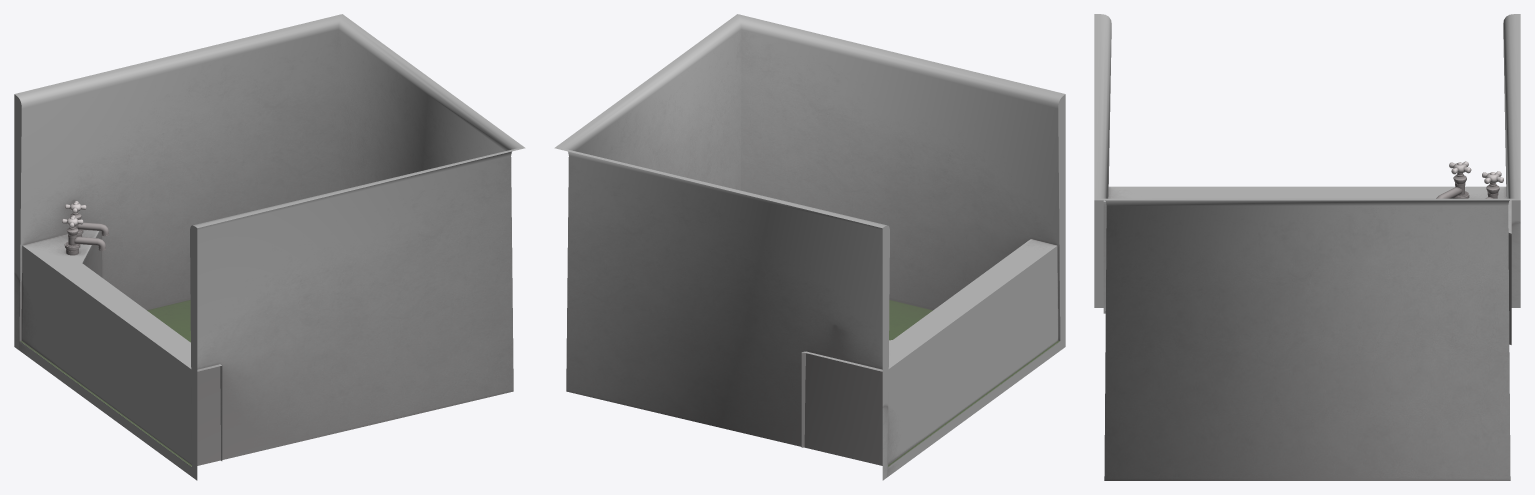
Rendered from SM_Bathtub.fbx.
3 renders of one model, left to right at view 1: azimuth 30°, elevation 25°; view 2: azimuth 150°, elevation 25°; view 3: azimuth 270°, elevation 25°, orthographic. The views are drawn at different scales.
Visible parts, largest first — view 1: SM_Bathtub; view 2: SM_Bathtub; view 3: SM_Bathtub.
Boxes of the visible parts, x1,y1,x2,y2 form: SM_Bathtub: [14, 14, 525, 480]; SM_Bathtub: [554, 14, 1065, 480]; SM_Bathtub: [1094, 14, 1520, 480].
Size of the model in its own units: 119 by 115 by 87.45.
1 material, 1 textured.
